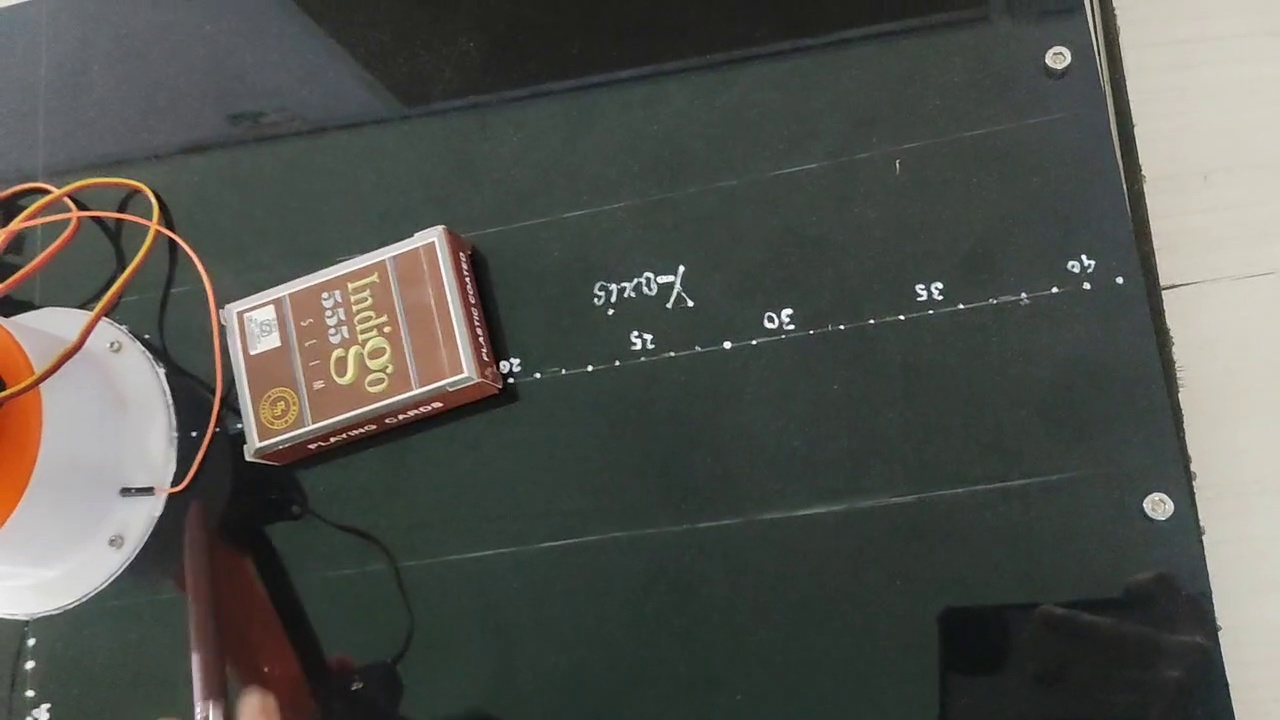BEX: (232, 236, 465, 440)
